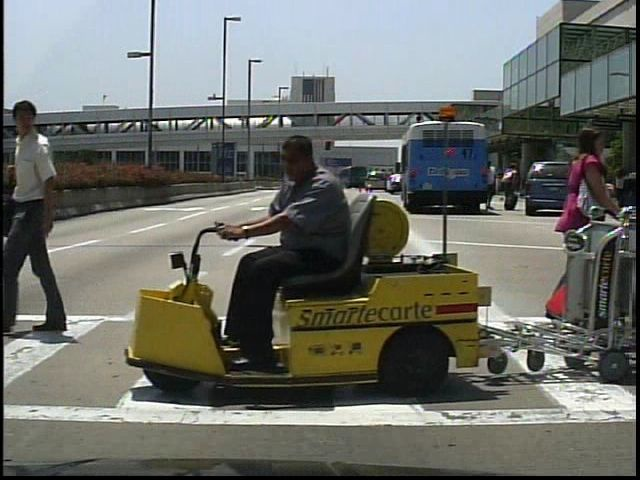person: (223, 134, 359, 373), (8, 100, 80, 337), (549, 121, 613, 353), (580, 163, 601, 214), (480, 162, 500, 215), (503, 163, 522, 218)
